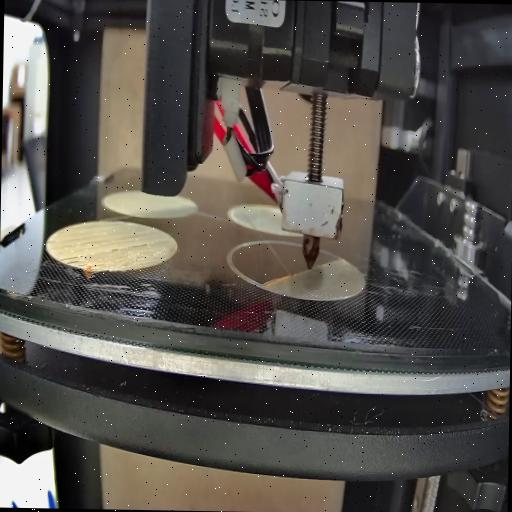under_extrusion: (111, 236, 170, 258), (60, 252, 90, 272), (48, 236, 58, 246)
